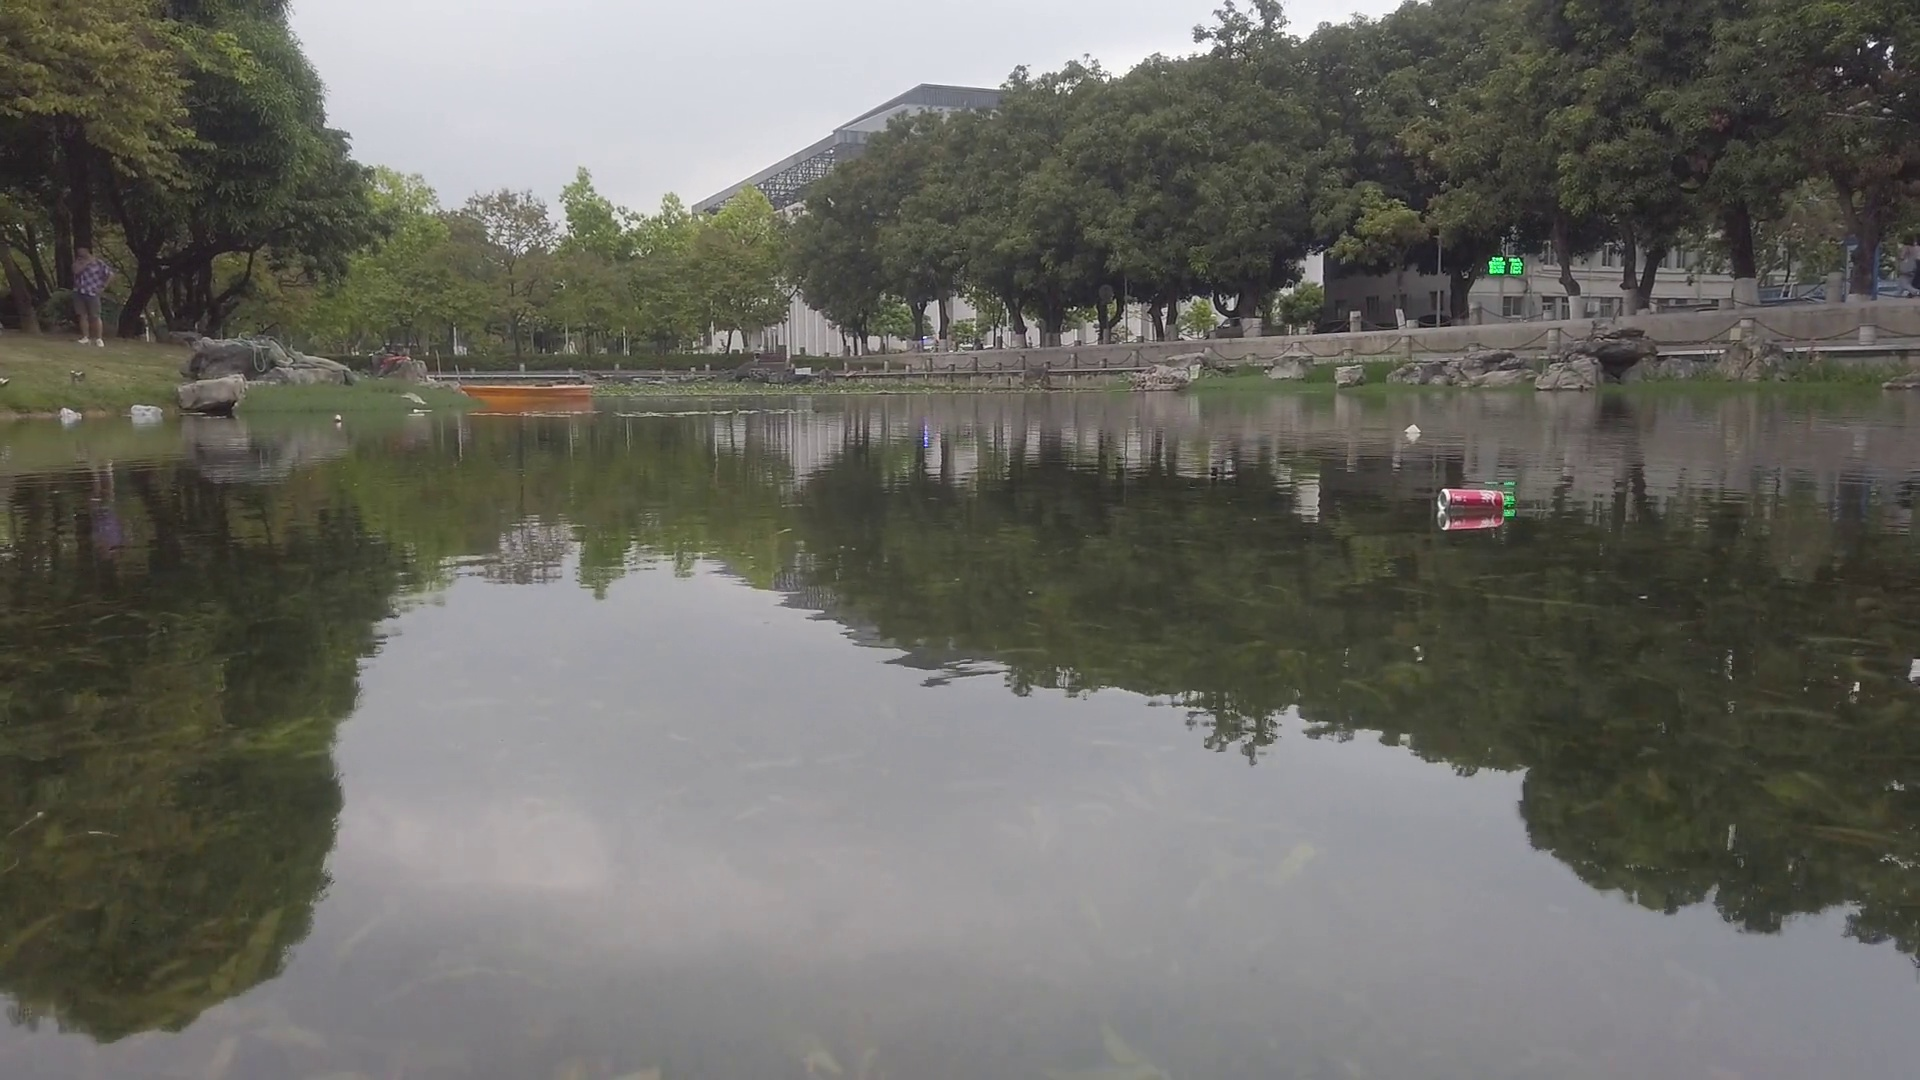bottle: (1440, 484, 1505, 512), (334, 411, 343, 425)
carton: (1406, 422, 1419, 438)
plastic: (131, 404, 164, 419), (58, 405, 82, 423)
